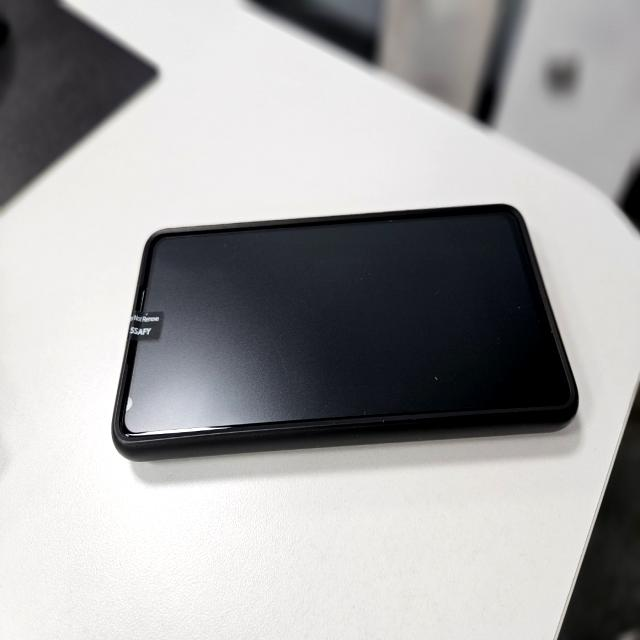phone: (110, 198, 578, 460)
sticker: (128, 307, 167, 338)
